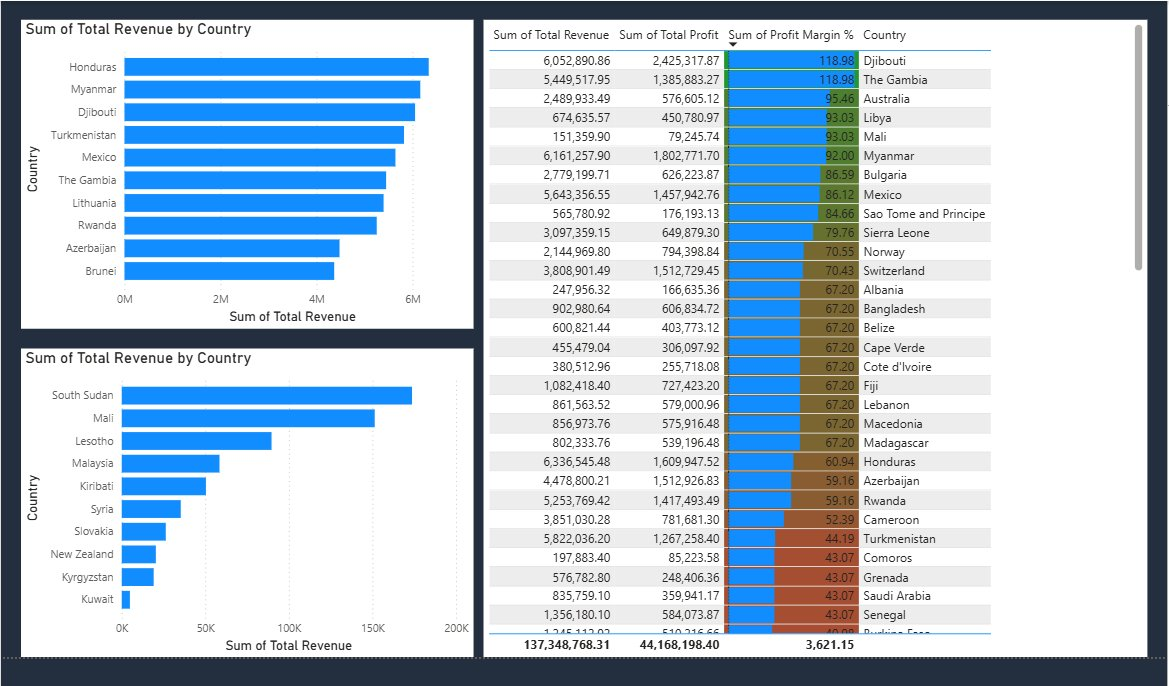

Layout of this report page (visuals, bound fields, positions):
{"tool":"powerbi","page":{"name":"Country Performance","canvas":[1280,720],"ordinal":4},"visuals":[{"type":"barChart","fields":{"Category":["Amazon_Sales_Clean.Country"],"Y":["Sum(Amazon_Sales_Clean.Total Revenue)"]},"box":[22,20.6,496.7,338.9],"z":0},{"type":"barChart","fields":{"Category":["Amazon_Sales_Clean.Country"],"Y":["Sum(Amazon_Sales_Clean.Total Revenue)"]},"box":[22,381.5,496.7,338.9],"z":1000},{"type":"tableEx","fields":{"Values":["Sum(Amazon_Sales_Clean.Total Revenue)","Sum(Amazon_Sales_Clean.Total Profit)","Sum(Amazon_Sales_Clean.Profit Margin %)","Amazon_Sales_Clean.Country"]},"box":[529.7,20.6,728.6,699.8],"z":2000}]}

Visuals, with their boxes on the page's 1280x720 design canvas (x1, y1, x2, y2). These are canvas units, not pixel positions in the 1169x686 screenshot, which may show the page scaled, cropped or inside an application window:
barChart - Amazon_Sales_Clean.Country x Sum(Amazon_Sales_Clean.Total Revenue): bbox=[22, 21, 519, 360]
barChart - Amazon_Sales_Clean.Country x Sum(Amazon_Sales_Clean.Total Revenue): bbox=[22, 382, 519, 720]
tableEx - Sum(Amazon_Sales_Clean.Total Revenue) x Sum(Amazon_Sales_Clean.Total Profit): bbox=[530, 21, 1258, 720]
